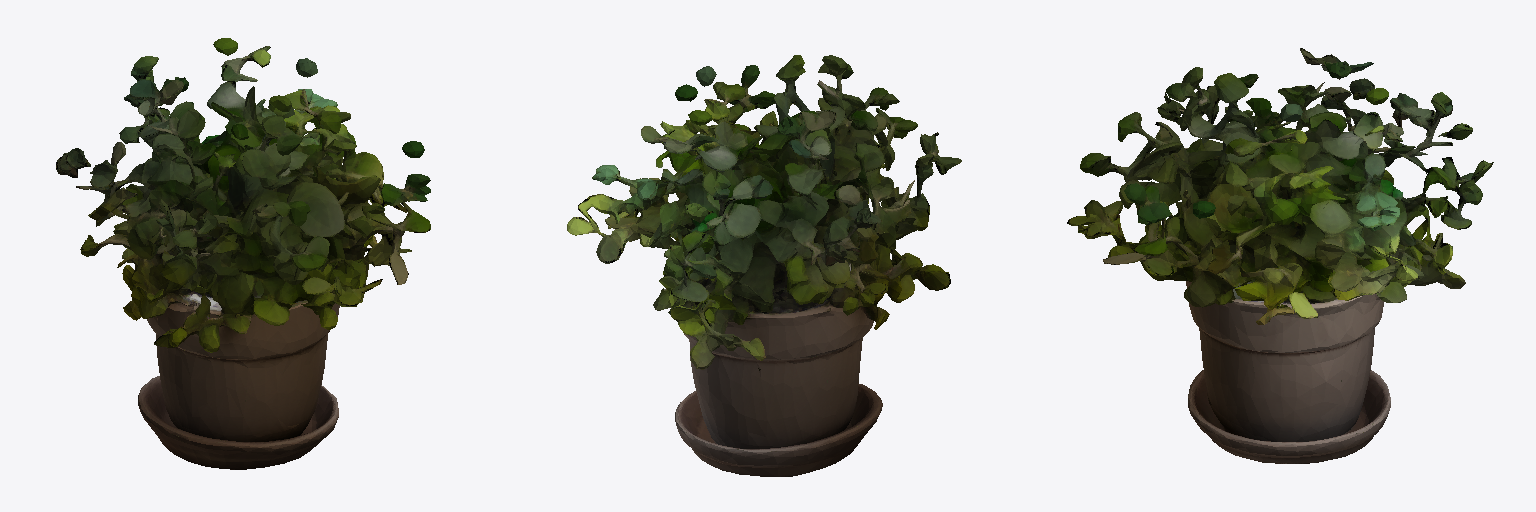
3 views of the same model, side by side, from view 1: azimuth 30°, elevation 25°; view 2: azimuth 150°, elevation 25°; view 3: azimuth 270°, elevation 25° (orthographic).
Parts seen in each view (by area): view 1: geometry_0; view 2: geometry_0; view 3: geometry_0.
Part boxes in pixels (x1,y1,x2,y2): geometry_0: (56, 38, 430, 469); geometry_0: (567, 55, 961, 476); geometry_0: (1067, 48, 1493, 463).
Size of the model in its own units: 0.6089 by 0.7102 by 0.7629.
1 materials, 1 textured.